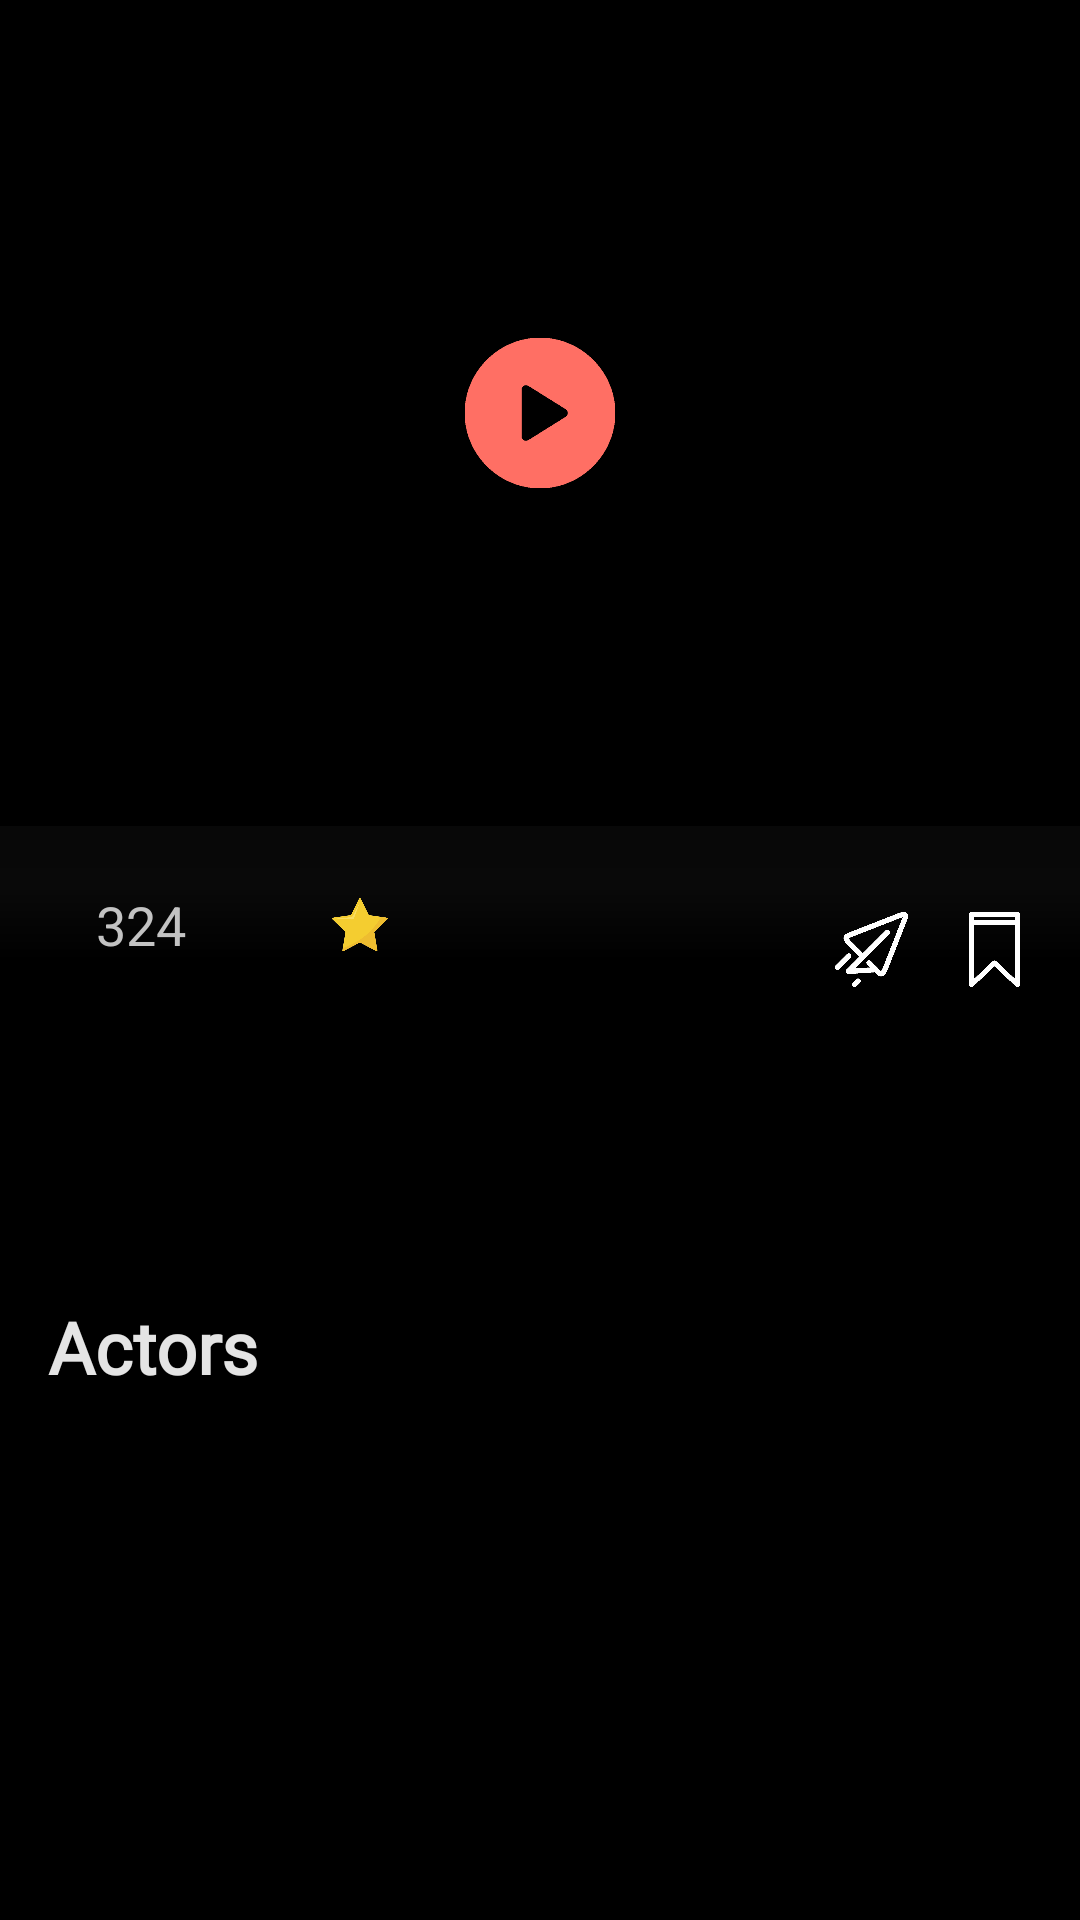

Icon bounding boxes for this 1080px×1920px phone screenshot, format [left=x1, top=y1, right=x2, bottom=y2]:
save: [left=969, top=912, right=1020, bottom=987]
send: [left=835, top=912, right=908, bottom=987]
star: [left=332, top=898, right=388, bottom=951]
